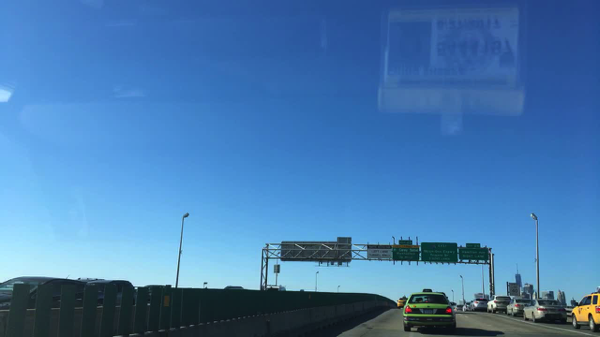car: (0, 275, 91, 311), (402, 289, 457, 333), (87, 279, 139, 308), (569, 286, 599, 334), (521, 298, 568, 325), (134, 284, 169, 303), (486, 294, 513, 315), (506, 298, 533, 317), (473, 298, 488, 312), (396, 294, 407, 310), (265, 285, 286, 292), (221, 285, 244, 291), (454, 304, 463, 312), (462, 303, 470, 312)
traffic sign: (280, 240, 336, 264), (420, 242, 457, 263), (391, 240, 420, 261), (458, 243, 488, 261), (336, 237, 352, 262), (366, 245, 391, 260), (509, 282, 520, 297)
